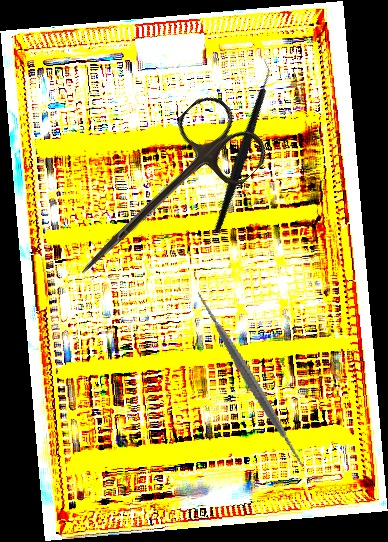Chopper: (160, 57, 322, 234)
Iris Scissors: (52, 87, 275, 309)
Spatula Surgical: (151, 280, 350, 479)
